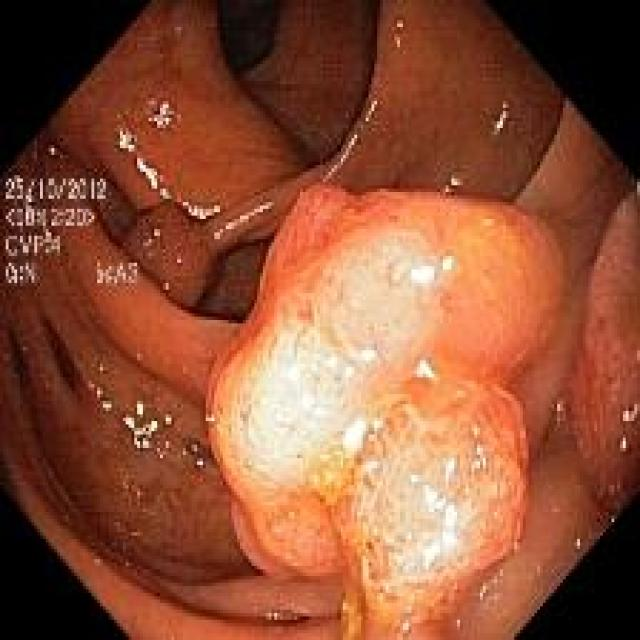Polyps: (206, 187, 564, 624), (206, 186, 564, 536), (334, 377, 528, 640)
